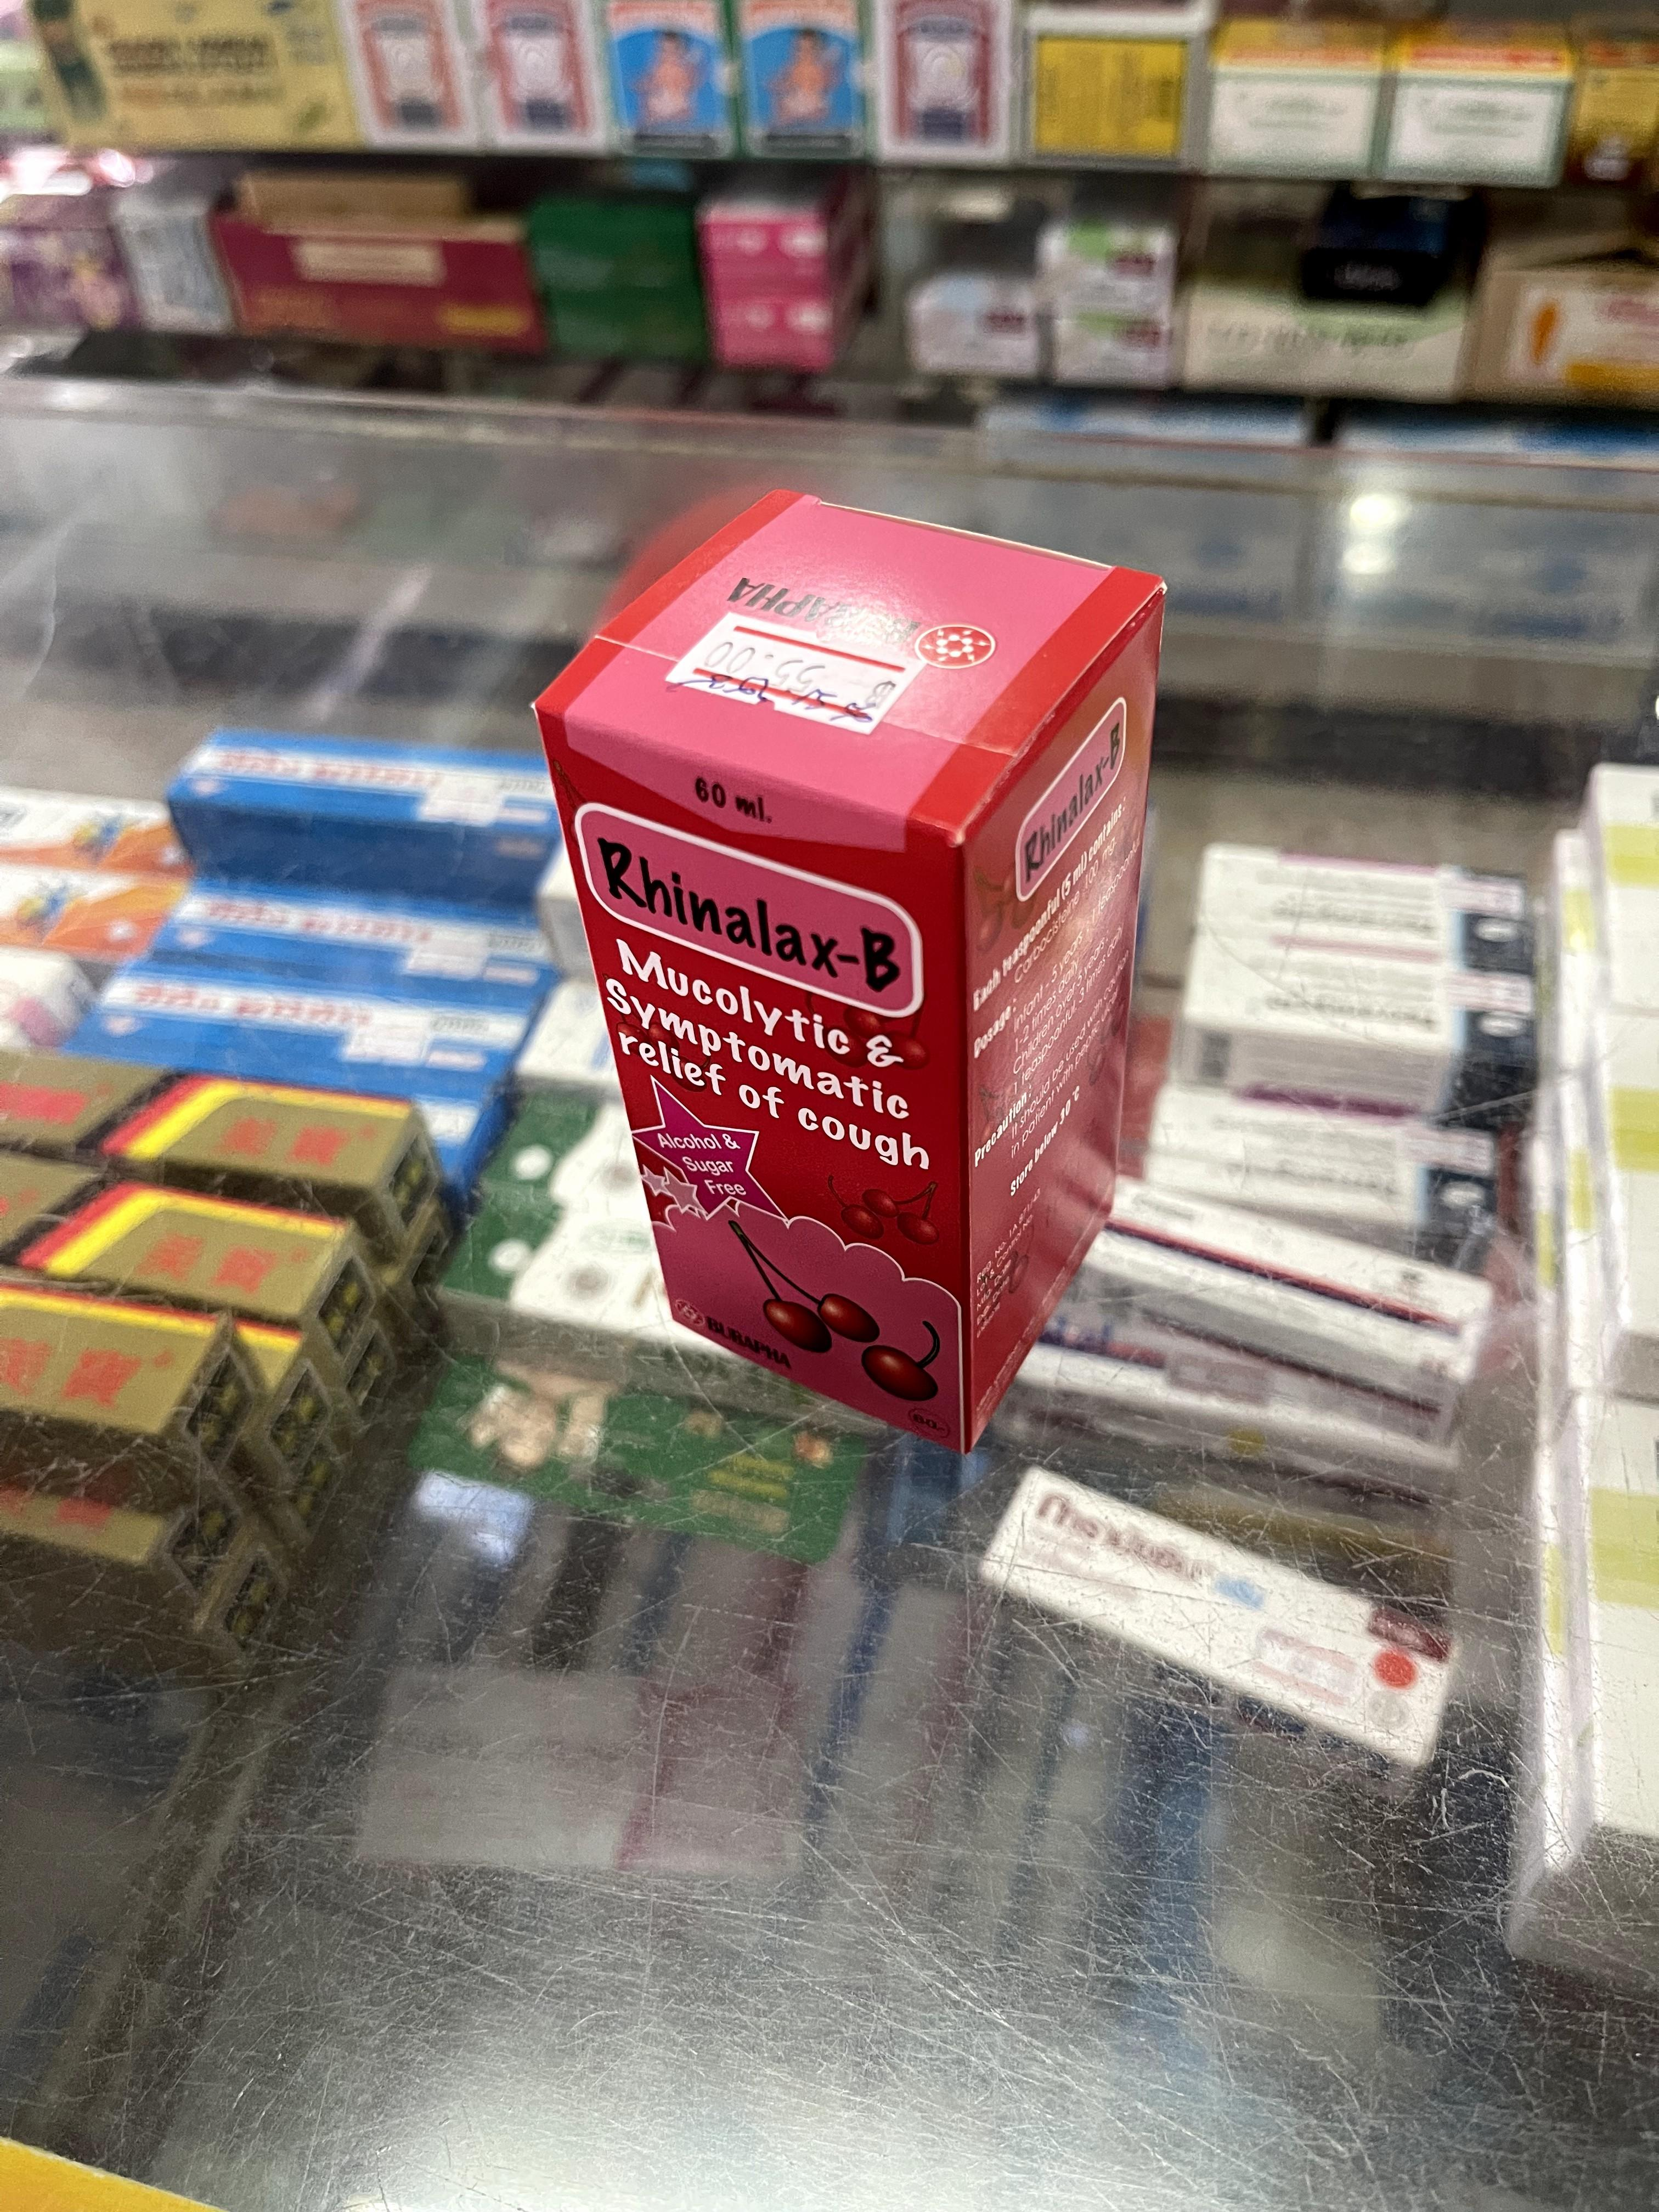Rhinalax-B: (540, 502, 1161, 1451)
